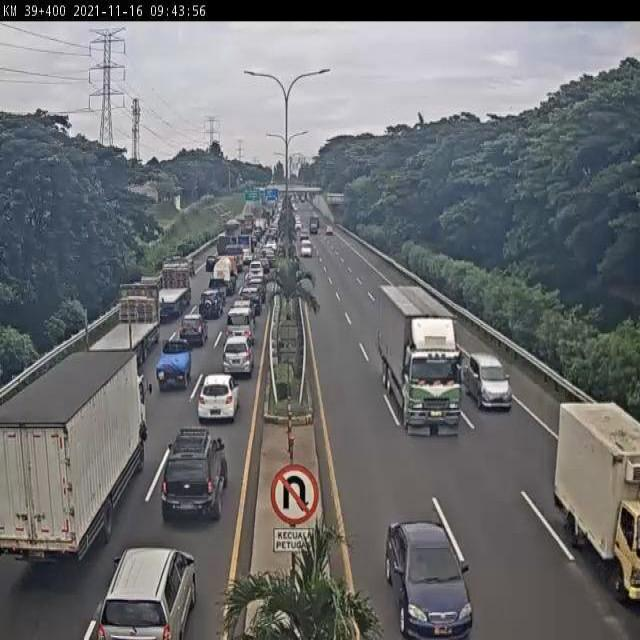car: (385, 516, 474, 639), (93, 548, 200, 640), (161, 428, 228, 527), (467, 353, 512, 411), (195, 376, 241, 429), (155, 340, 194, 393), (222, 337, 255, 383), (228, 306, 257, 346), (177, 319, 205, 352), (199, 291, 222, 321)
small truck: (554, 401, 640, 608)
truck-l-: (379, 289, 462, 439), (80, 284, 159, 373), (147, 264, 193, 324)
truck-m-: (0, 347, 155, 565)
